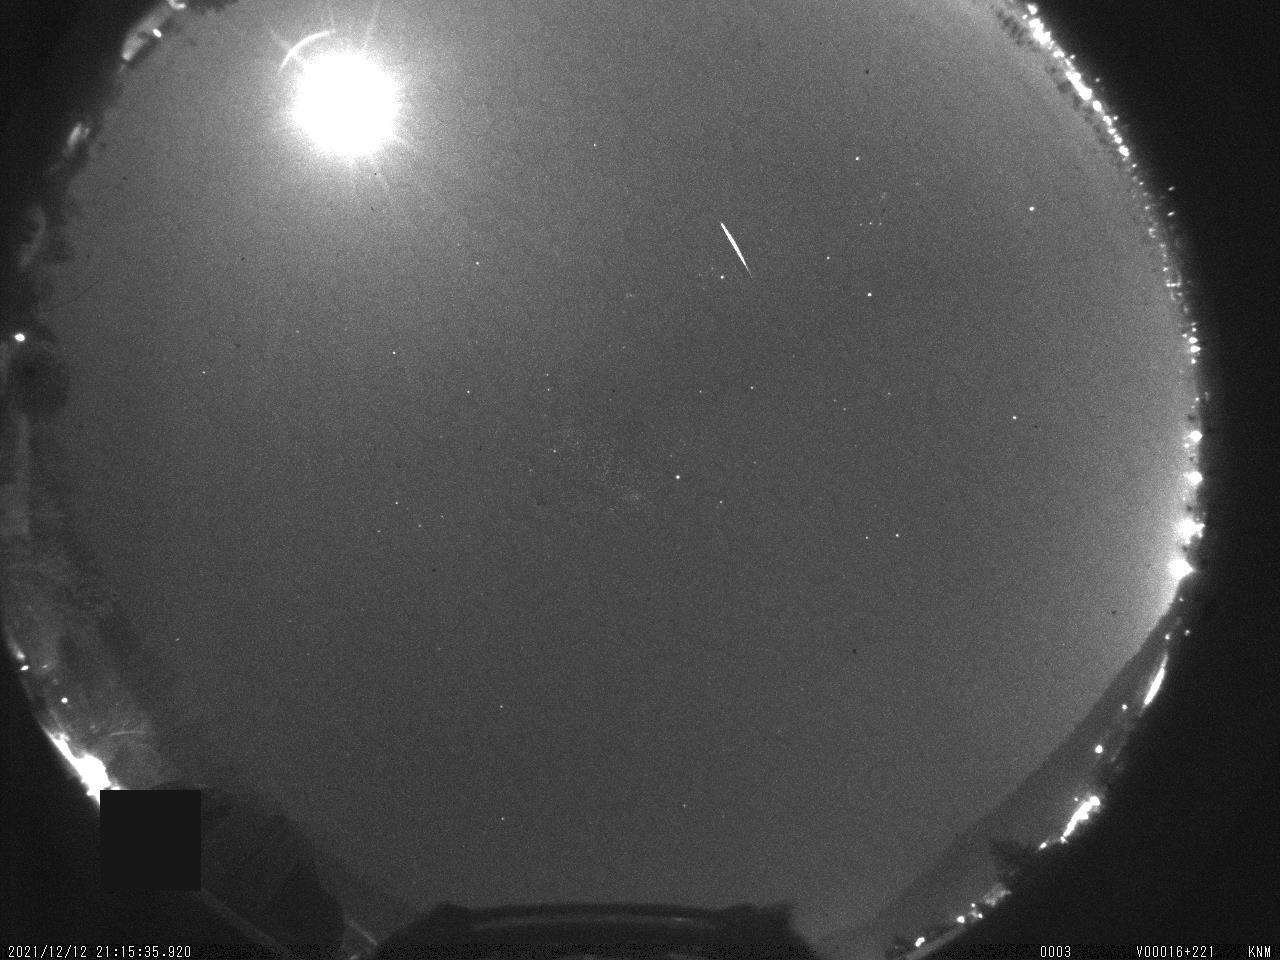meteor: (689, 199, 820, 302)
